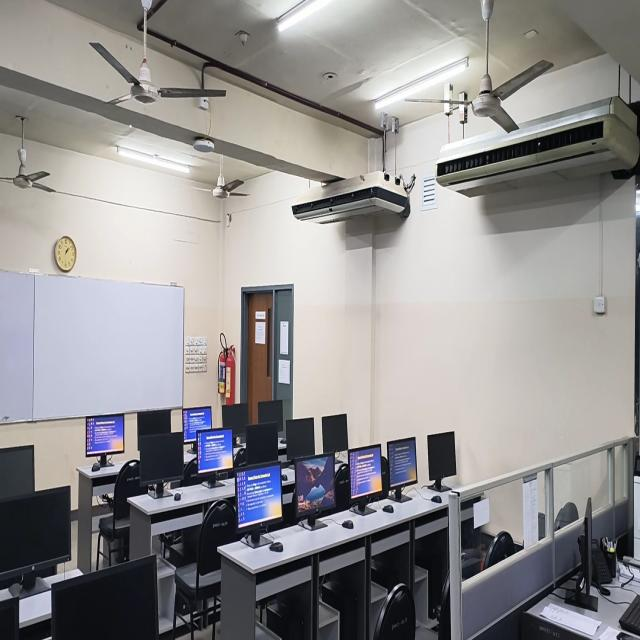Ac: (435, 96, 640, 196), (291, 171, 415, 223)
Chair: (174, 500, 236, 638), (99, 460, 140, 564), (373, 584, 415, 639), (483, 531, 516, 569), (438, 571, 450, 639), (554, 502, 579, 531), (181, 457, 198, 486)
Cpu: (321, 564, 363, 639), (415, 530, 447, 617), (267, 585, 310, 639)
Fire Extinguisher: (218, 332, 235, 401), (226, 350, 235, 404)
Keyboard: (619, 594, 640, 635)
Light: (374, 56, 469, 110), (116, 146, 191, 173), (276, 0, 331, 31)
Monitor: (51, 555, 159, 639), (0, 487, 71, 597), (236, 463, 282, 532), (573, 498, 597, 610), (295, 454, 335, 516), (139, 433, 184, 487), (85, 414, 124, 470), (349, 444, 382, 504), (0, 446, 35, 500), (387, 438, 417, 501), (427, 432, 456, 491), (198, 430, 233, 472), (137, 409, 171, 450), (246, 423, 278, 465), (286, 418, 315, 460), (183, 407, 212, 443), (322, 414, 348, 452), (221, 403, 248, 435), (258, 400, 283, 430)
Mouse: (269, 542, 283, 552), (342, 520, 354, 529), (382, 504, 394, 513), (431, 495, 442, 503), (91, 462, 100, 471), (174, 493, 181, 501), (281, 472, 288, 480)
